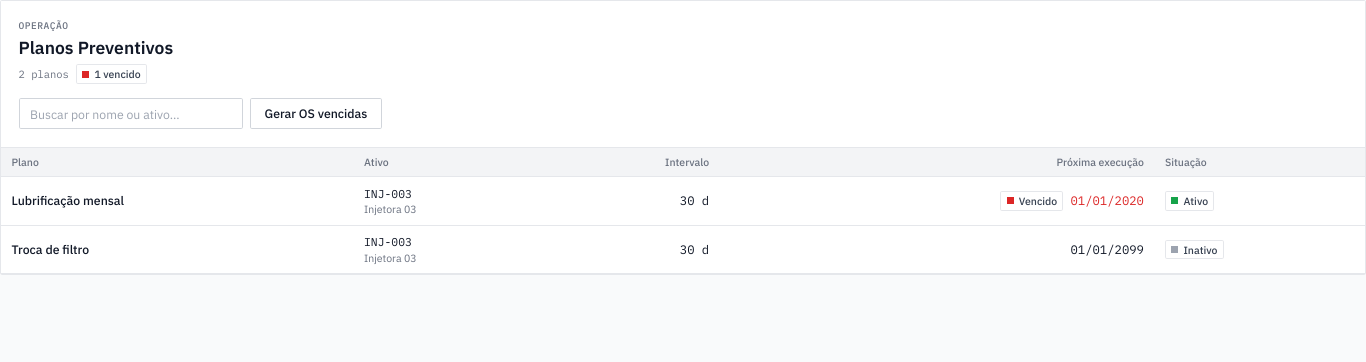
Test: PreventivePlansListPage › deve informar quando não há plano vencido
Expected: the text "Lubrificação mensal" is shown, [12,192,124,208]
Click the button "Gerar OS vencidas" at (316, 114), box [250,98,382,129]
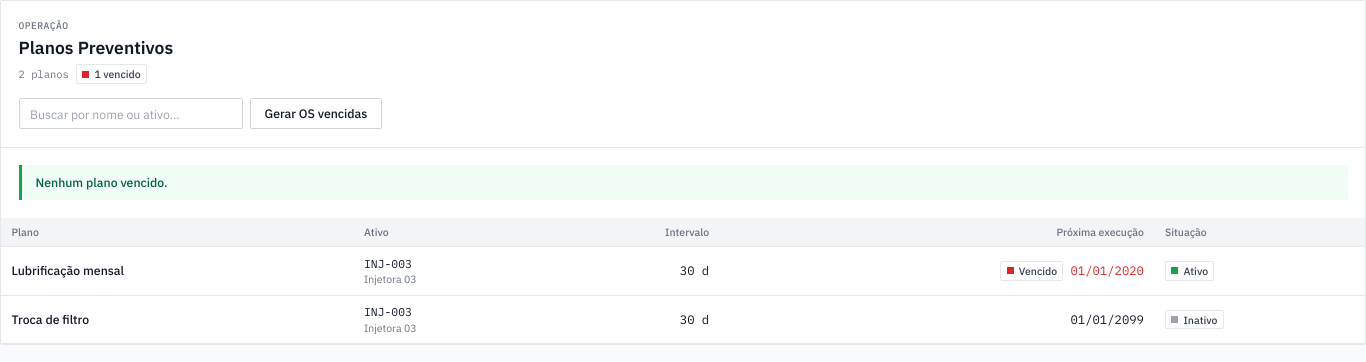
Result: the message reads "Nenhum plano vencido." at [36,174,167,190]
